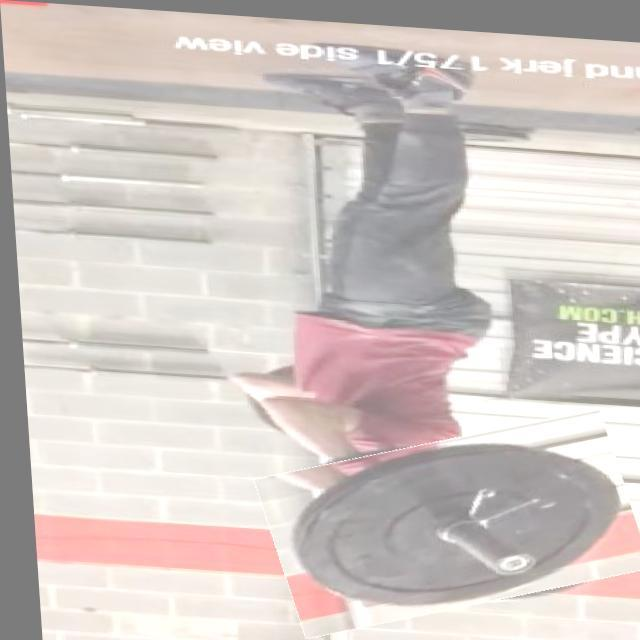barbell: (251, 406, 640, 632)
